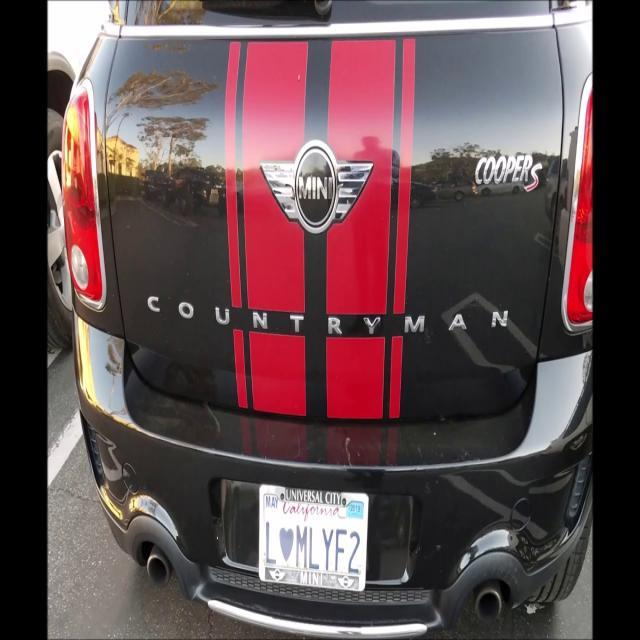licenseplate: (250, 473, 374, 602)
